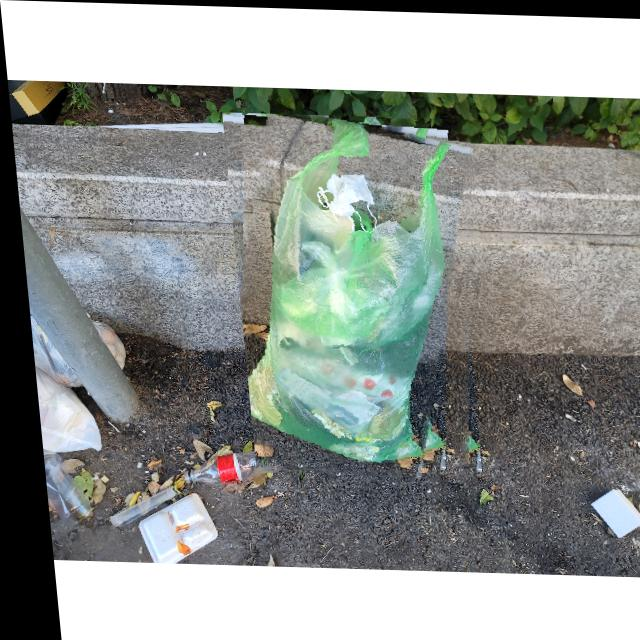general_trashbag: (236, 113, 468, 478)
